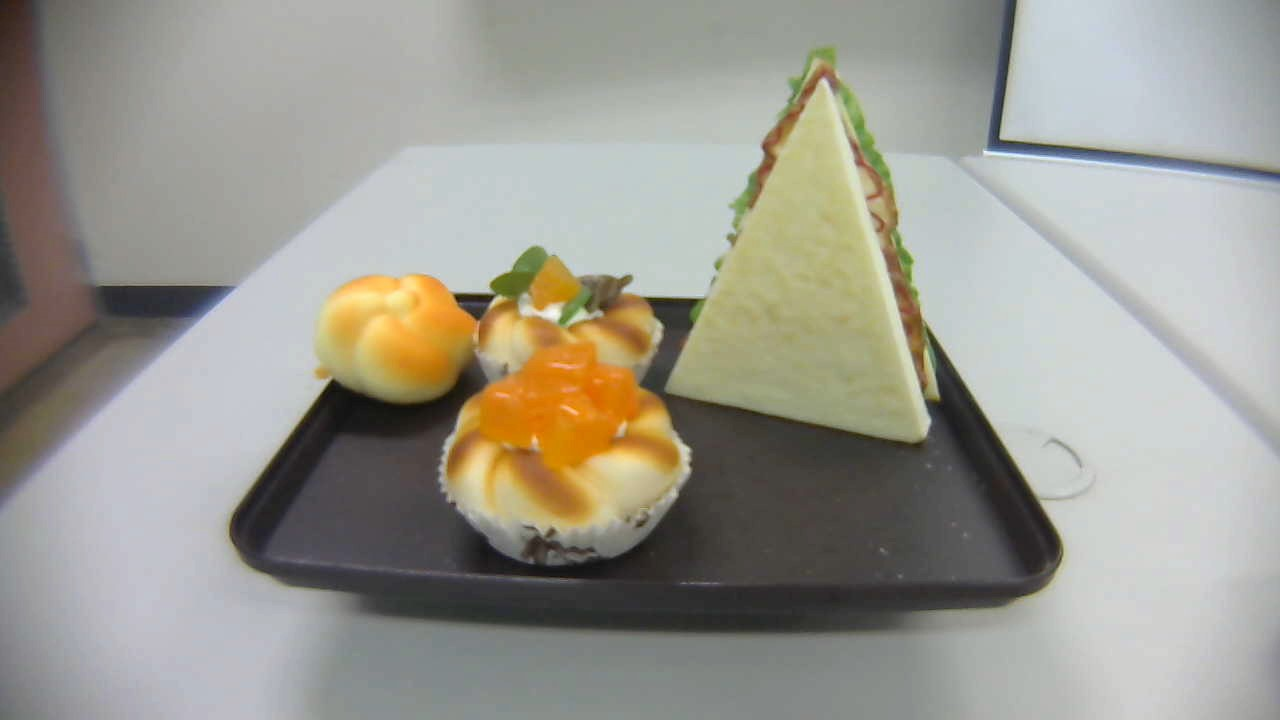fruit tart: (475, 245, 665, 407)
mango tart: (438, 339, 692, 569)
sandwich: (664, 48, 944, 443)
twist bread: (314, 273, 479, 402)
